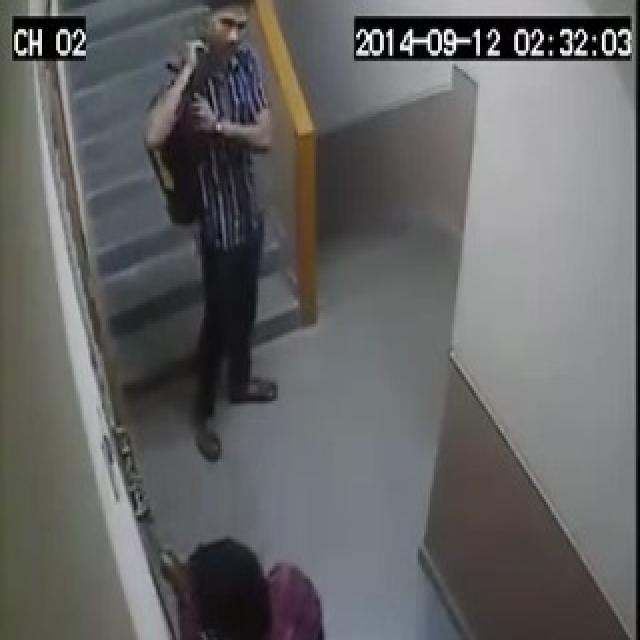thief: (146, 0, 295, 458), (158, 538, 333, 640)
